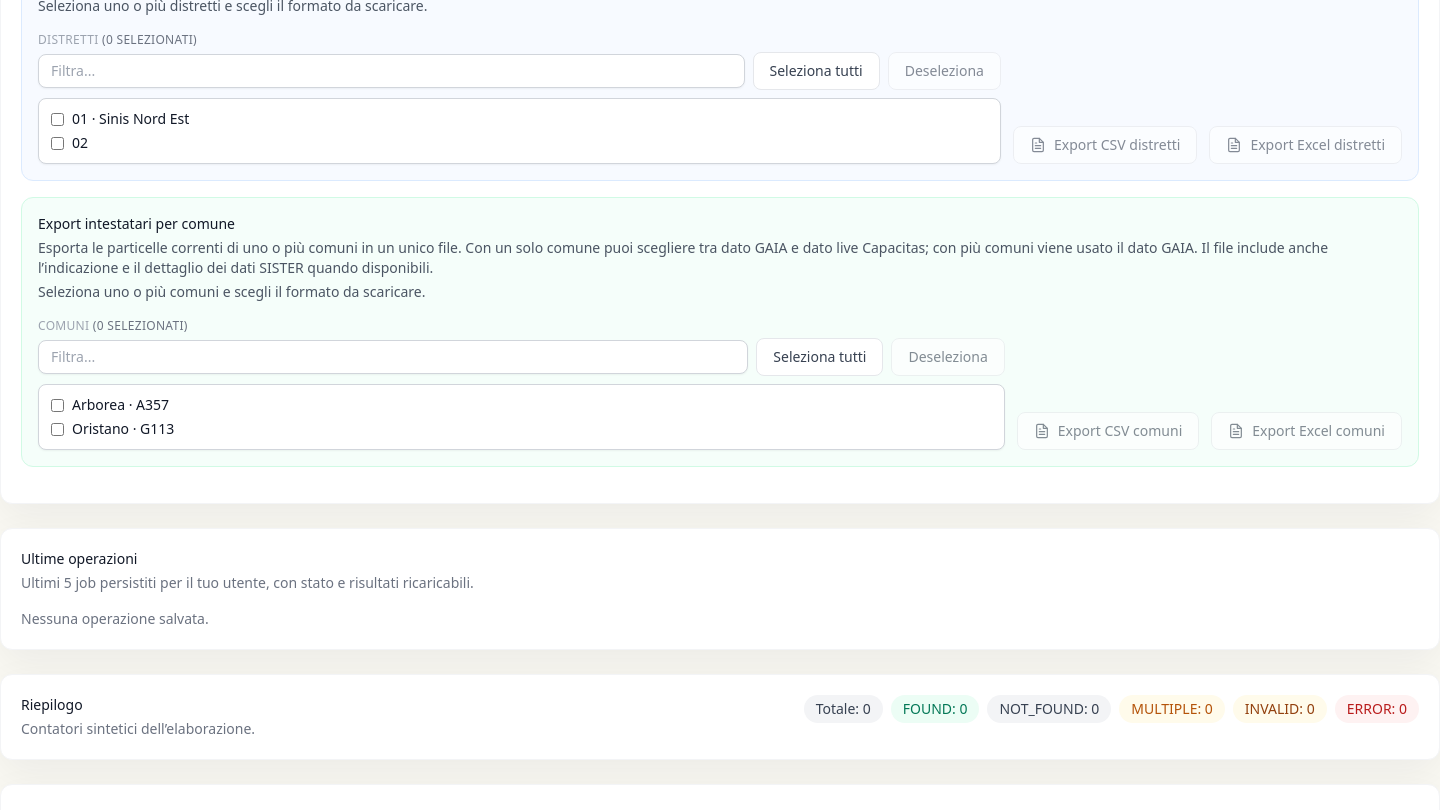
it: AnagraficaBulkPanel multi-scope export › shows an error when the single comune export fails
(page scrolled)
What coordinates should you click on to do the following:
click the checkbox labelled "Arborea · A357"
I would click on:
 (58, 405)
Its box is [51,398,64,412].
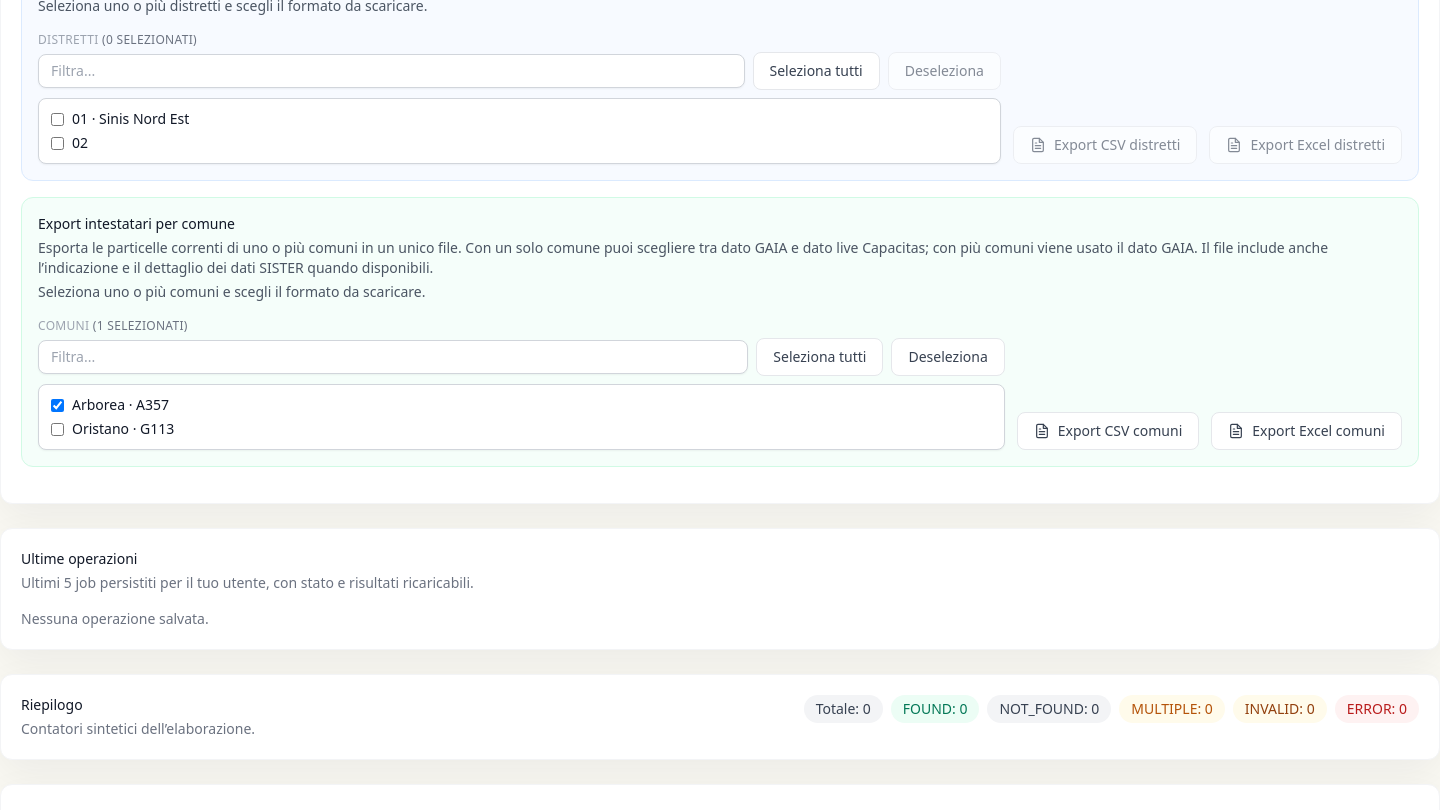
What coordinates should you click on to do the following:
click the button "Export CSV comuni"
I would click on:
 (1108, 431)
Its box is [1017,412,1199,450].
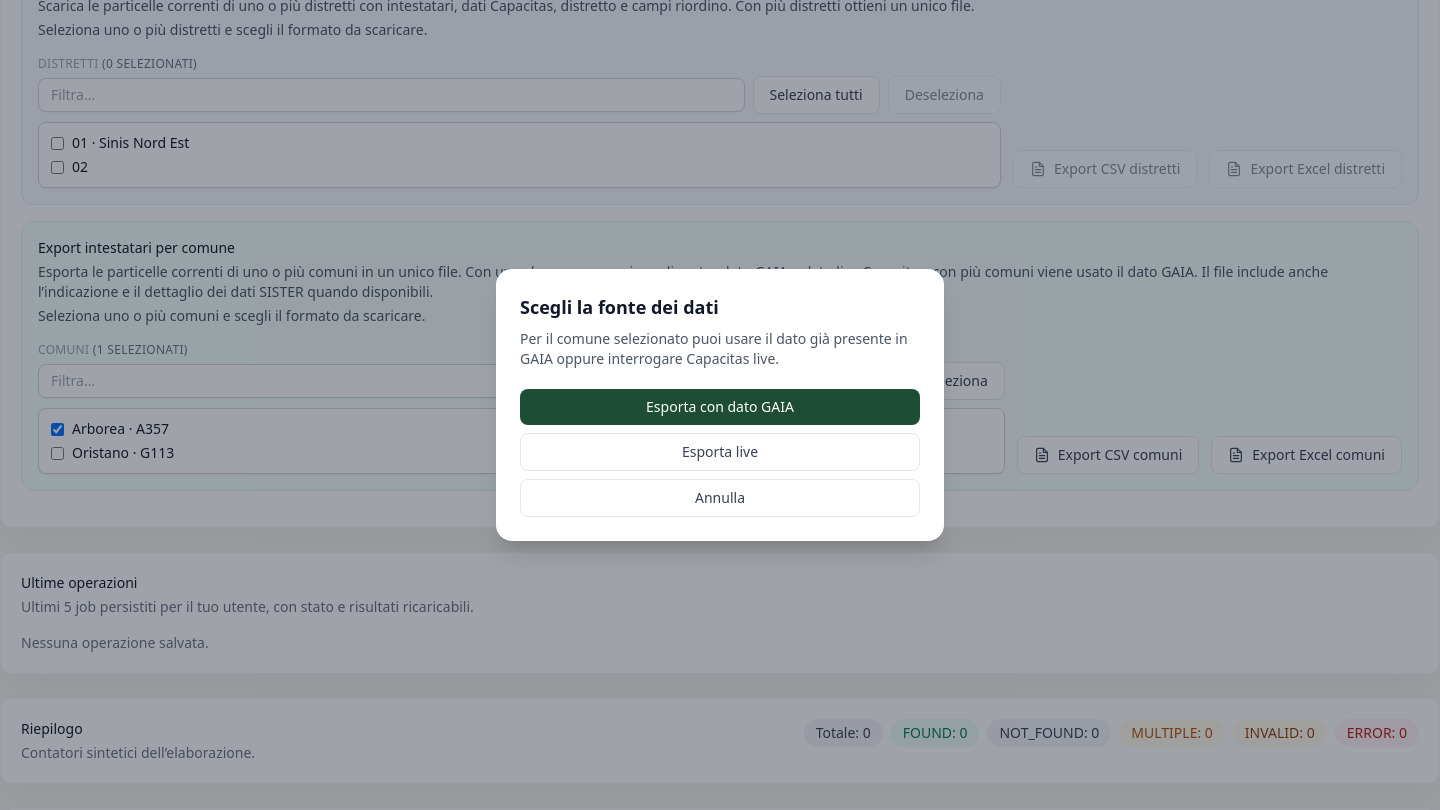
What coordinates should you click on to do the following:
click the button "Esporta con dato GAIA"
I would click on:
 (720, 407)
Its box is [520,389,920,425].
(page scrolled)
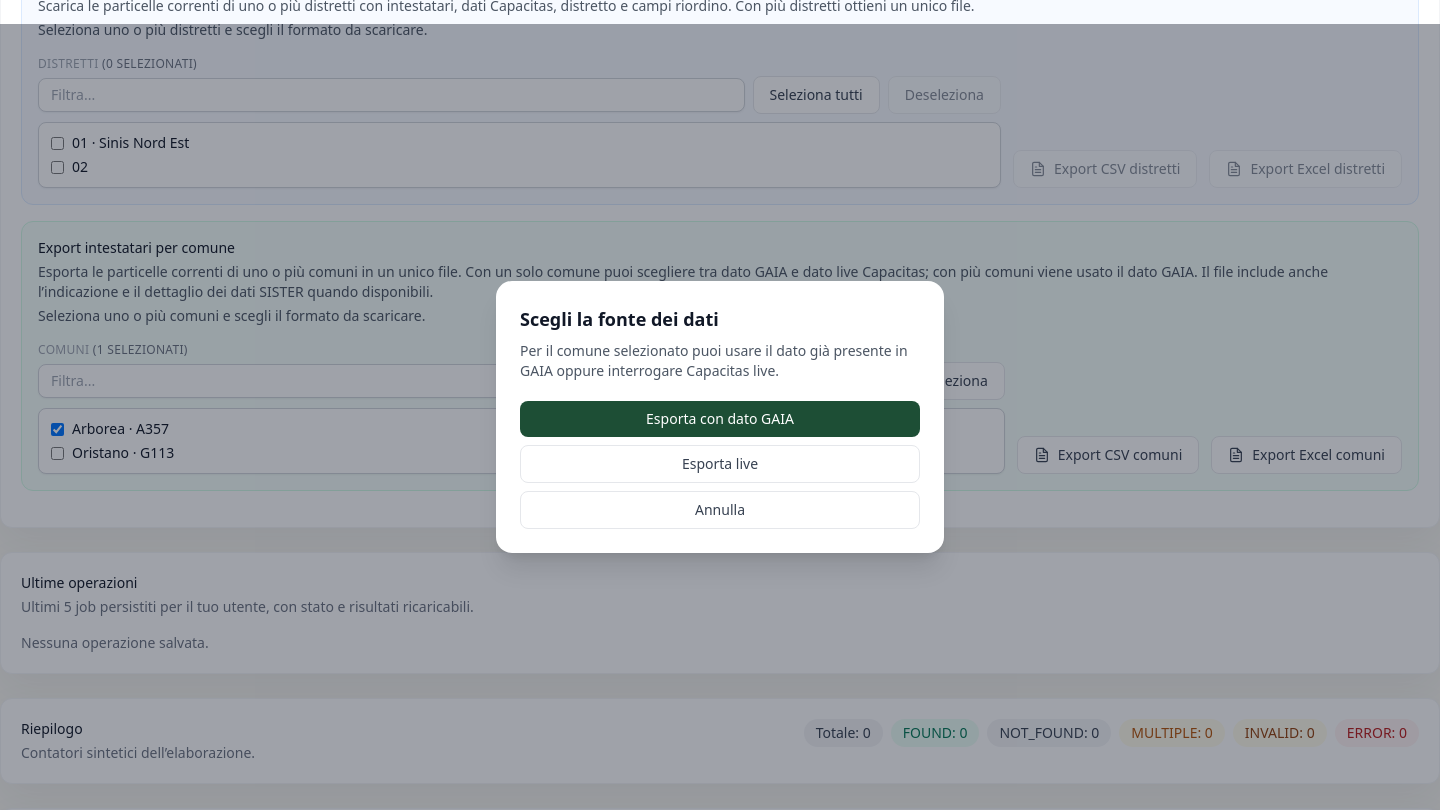
What coordinates should you click on to do the following:
click the button "Esporta con dato GAIA"
I would click on:
 (720, 419)
Its box is [520,401,920,437].
(page scrolled)
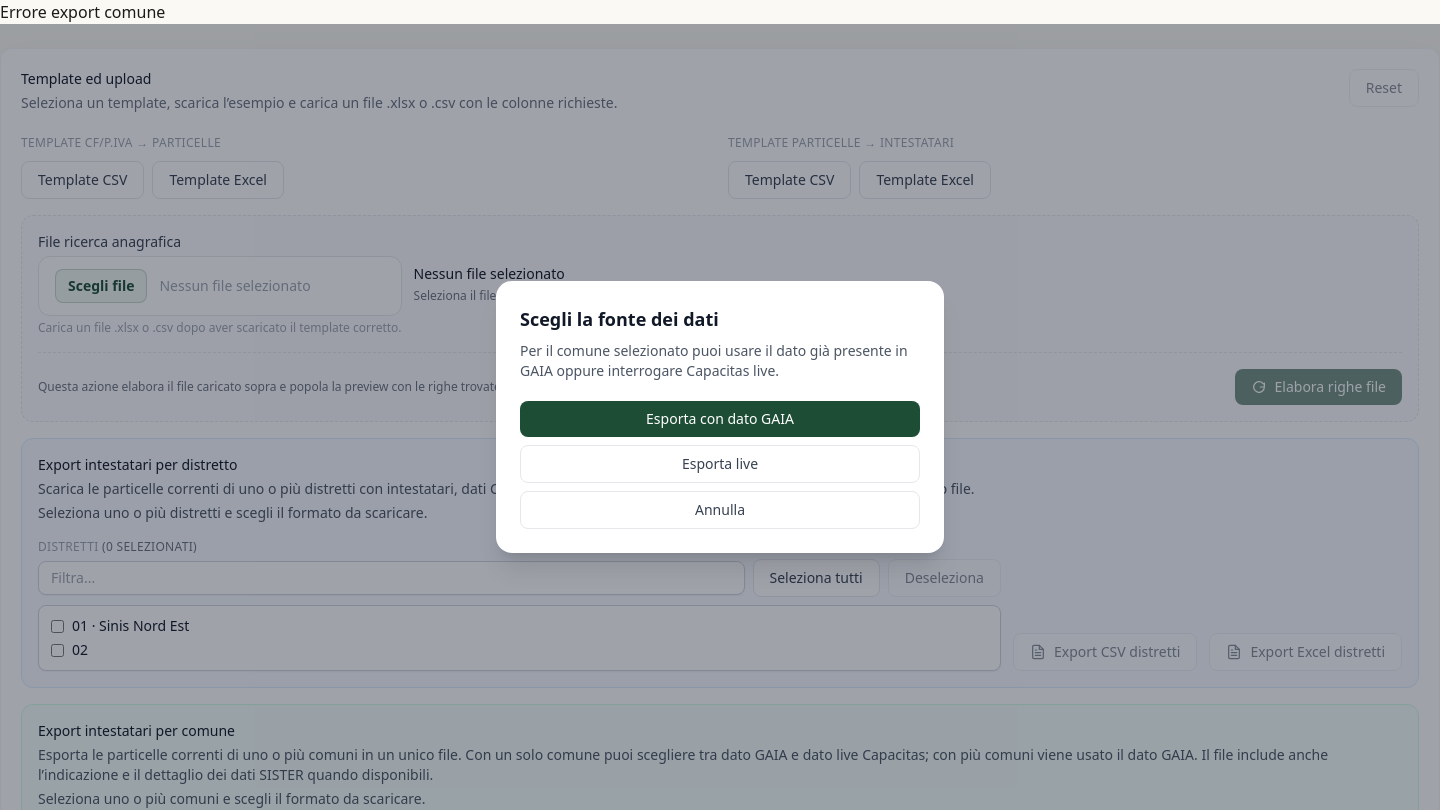
Check: the text "Errore export comune" is shown, box [0,1,165,23]
